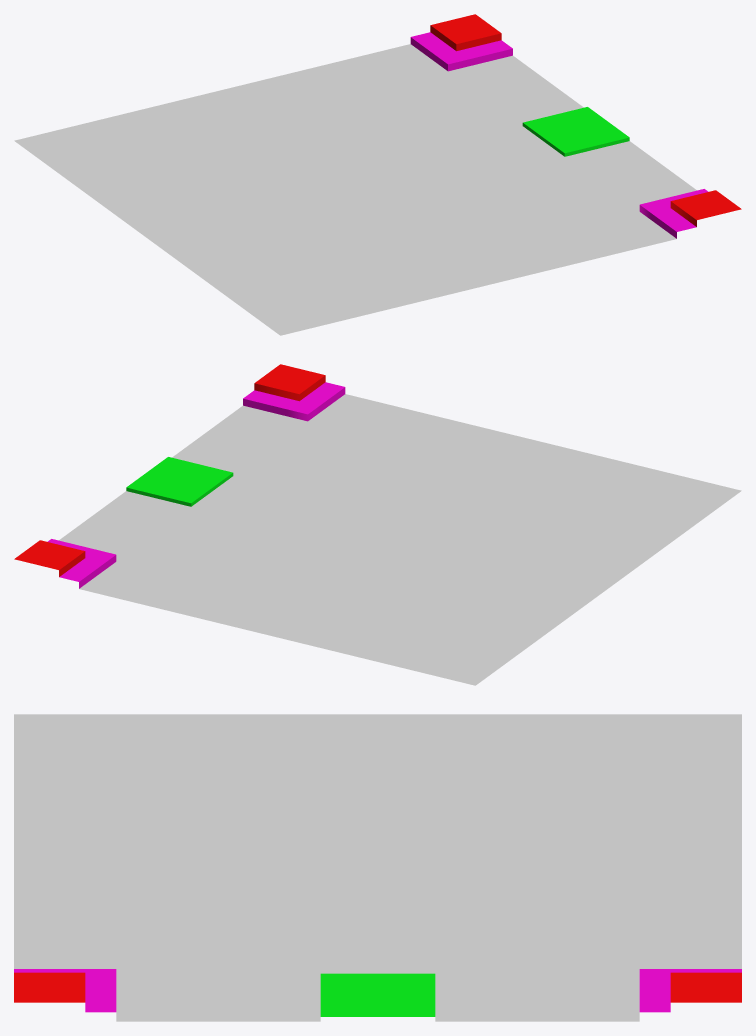
The model's file is Floor-Entrance.fbx.
3 renders of one model, top to bottom at view 1: azimuth 30°, elevation 25°; view 2: azimuth 150°, elevation 25°; view 3: azimuth 270°, elevation 25°, orthographic. The views are drawn at different scales.
Parts seen in each view (by area): view 1: Entrance; view 2: Entrance; view 3: Entrance.
Part boxes in pixels (box(x1,y1,x2,y2)): Entrance: box(14, 14, 741, 335); Entrance: box(14, 364, 741, 685); Entrance: box(14, 714, 741, 1021).
Size of the model in its own units: 78.74 by 2.28 by 78.74.
